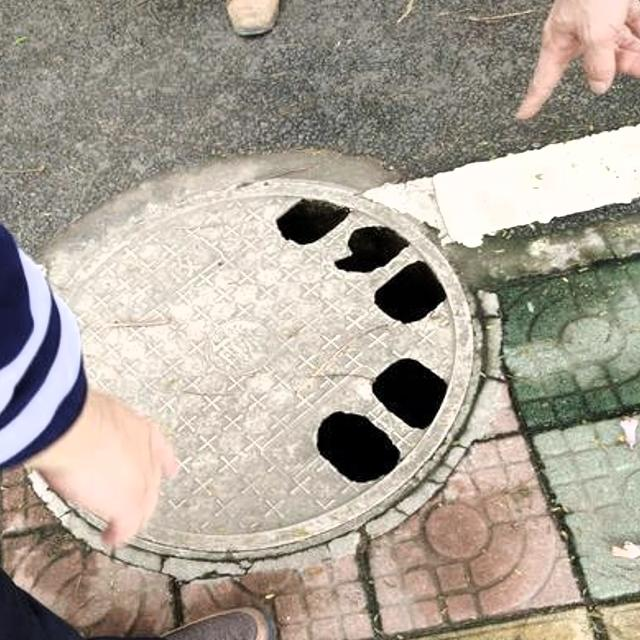broke: (0, 148, 505, 594)
